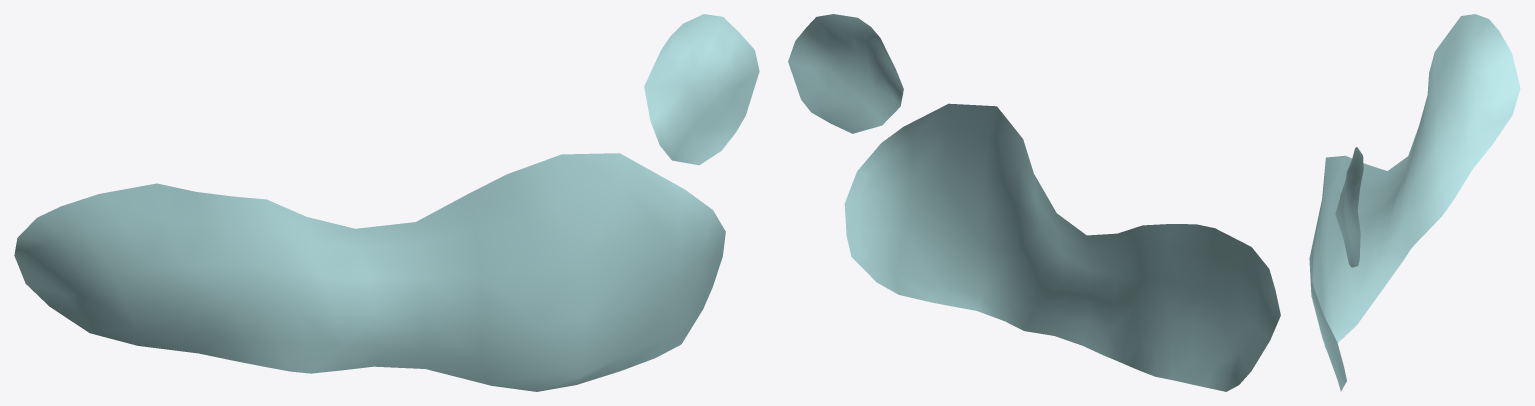
Rendered from golgi_apparatus_inner.fbx.
3 views of the same model, side by side, from view 1: azimuth 30°, elevation 25°; view 2: azimuth 150°, elevation 25°; view 3: azimuth 270°, elevation 25° (orthographic). The views are drawn at different scales.
Visible parts, largest first — view 1: Golgi_Apparatus_Inner; view 2: Golgi_Apparatus_Inner; view 3: Golgi_Apparatus_Inner.
Part boxes in pixels (left/top/right/bottom): Golgi_Apparatus_Inner: left=14, top=14, right=759, bottom=391; Golgi_Apparatus_Inner: left=788, top=14, right=1280, bottom=391; Golgi_Apparatus_Inner: left=1309, top=14, right=1520, bottom=391.
Size of the model in its own units: 483 by 227 by 168.
